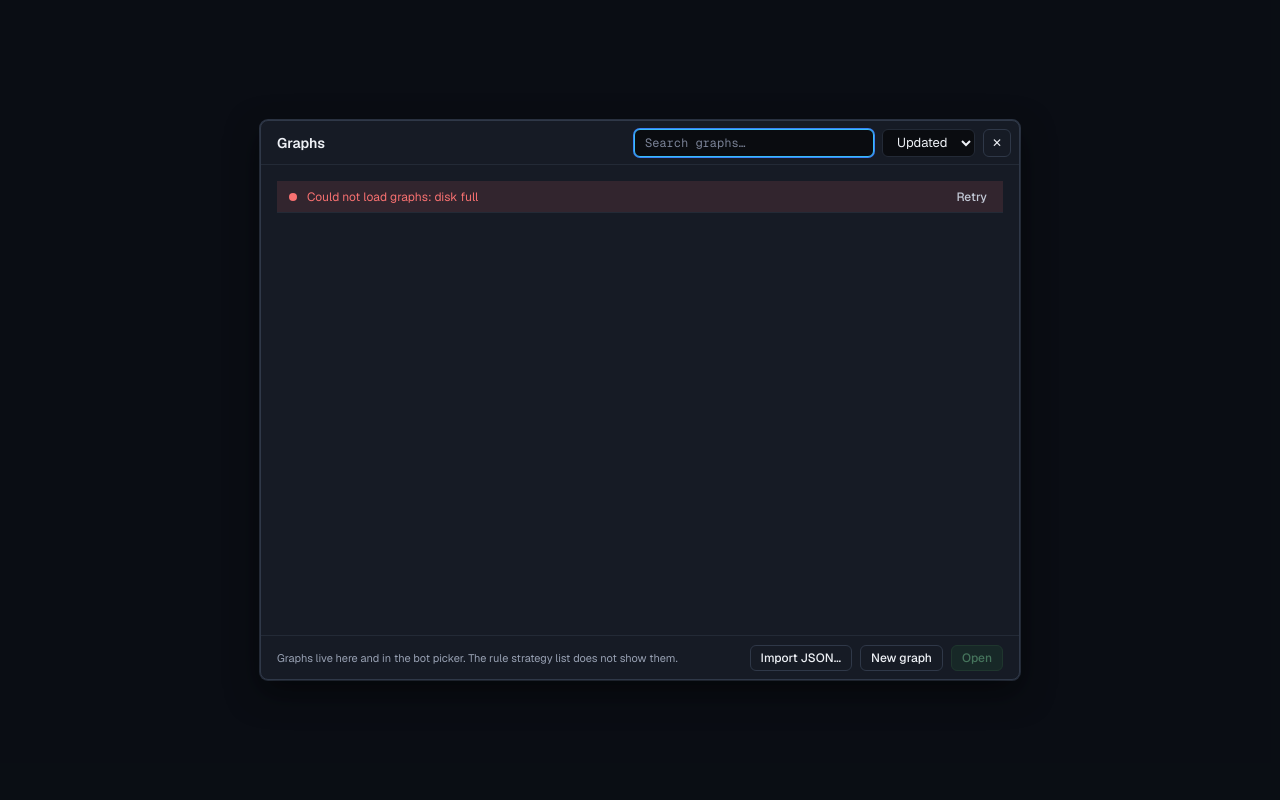
Test: GraphBrowser › shows a load error with Retry
Expected: the message with test id "nb-browser-error" shows "Could not load graphs: disk full", [277, 181, 1003, 213]
Click the button "Retry" at coordinates (972, 196), box [952, 186, 991, 208]
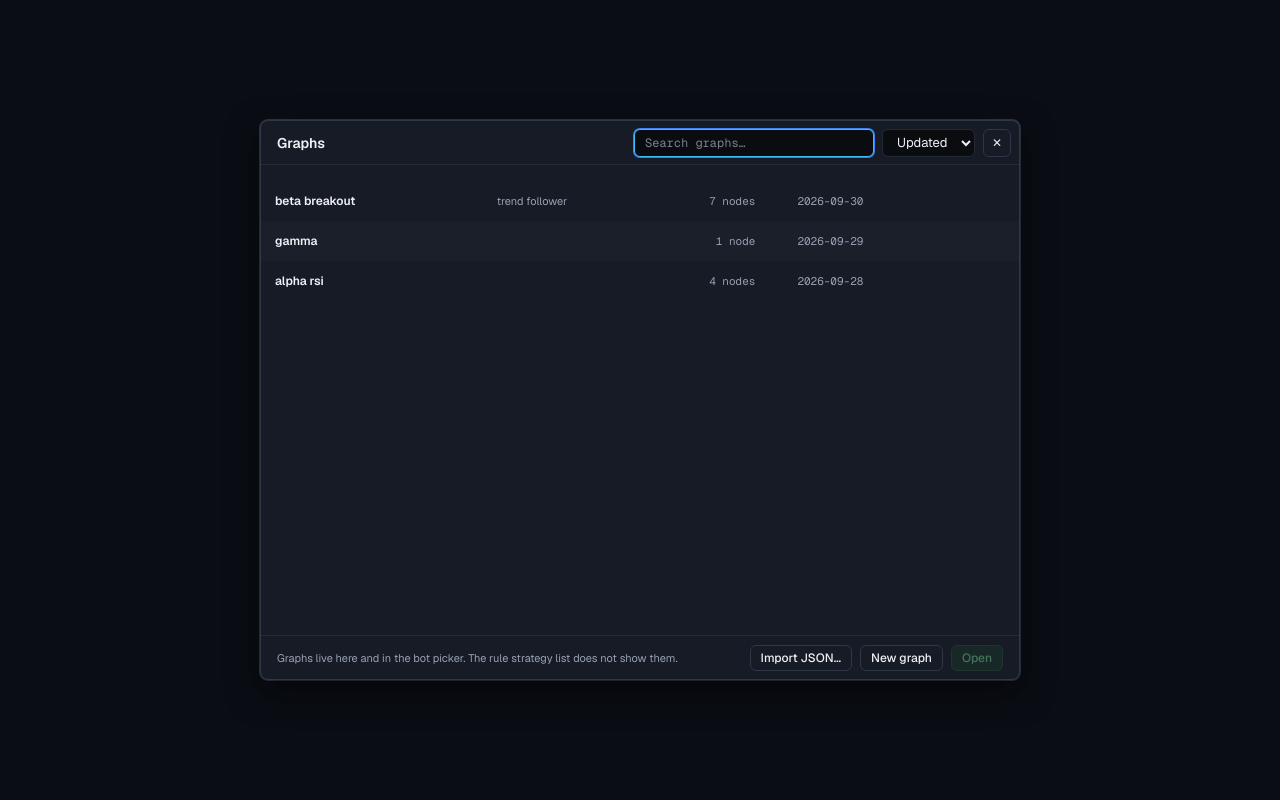
Expected: the option with test id "nb-browser-row-g_a" is shown, [275, 273, 863, 289]
